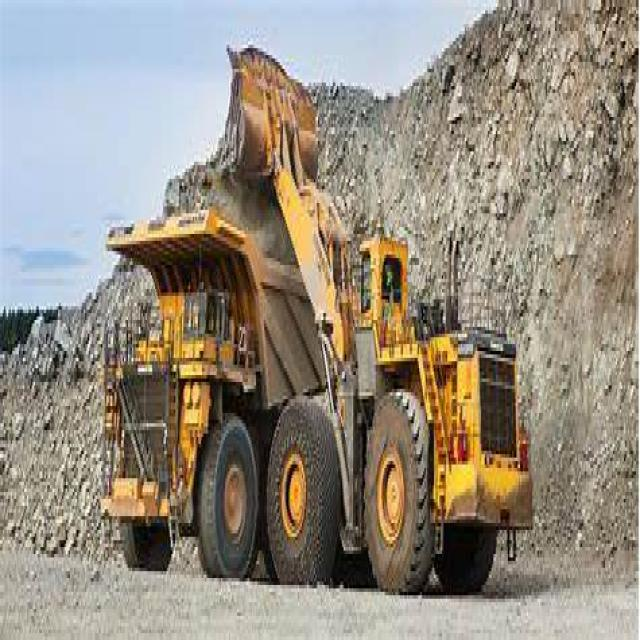buldozerpayloadergrader: (214, 24, 543, 619)
dump_truck: (97, 182, 283, 575)
